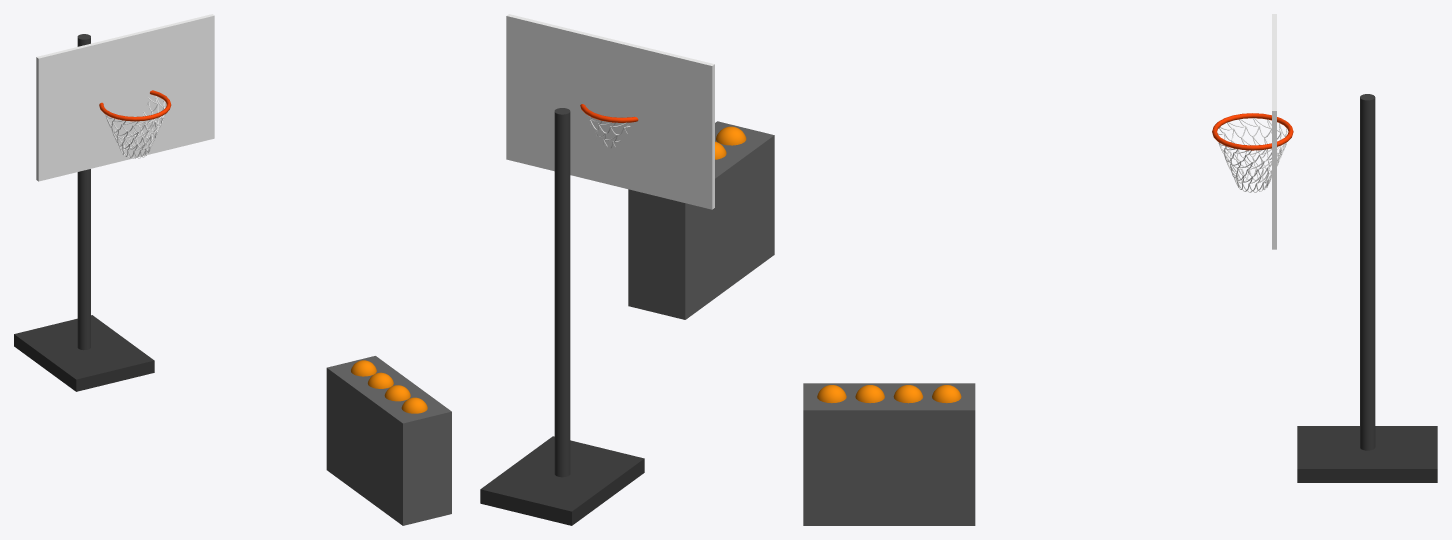
3 views of the same model, side by side, from view 1: azimuth 30°, elevation 25°; view 2: azimuth 150°, elevation 25°; view 3: azimuth 270°, elevation 25° (orthographic). The views are drawn at different scales.
Visible parts, largest first — view 1: object 2, object 7, object 6, object 5, Balls, object 4, object 3; view 2: object 2, object 7, object 6, object 5, Balls, object 3; view 3: object 7, object 6, object 5, object 4, Balls, object 2, object 3.
Part boxes in pixels (box(x1,y1,x2,y2)): object 2: box(36, 14, 214, 181); object 7: box(326, 356, 451, 525); object 6: box(14, 315, 154, 391); object 5: box(77, 34, 90, 350); Balls: box(351, 360, 427, 413); object 4: box(105, 95, 165, 158); object 3: box(99, 90, 171, 121); object 2: box(506, 14, 714, 209); object 7: box(628, 121, 774, 319); object 6: box(480, 436, 644, 525); object 5: box(554, 108, 570, 477); Balls: box(715, 126, 746, 159); object 3: box(580, 104, 638, 122); object 7: box(803, 383, 975, 525); object 6: box(1297, 426, 1437, 482); object 5: box(1360, 94, 1375, 450); object 4: box(1217, 118, 1287, 192); Balls: box(817, 385, 961, 403); object 2: box(1272, 14, 1276, 249); object 3: box(1212, 113, 1293, 150).
Size of what is drawn, in the model's own units: 2.1 by 3.45 by 4.98.
